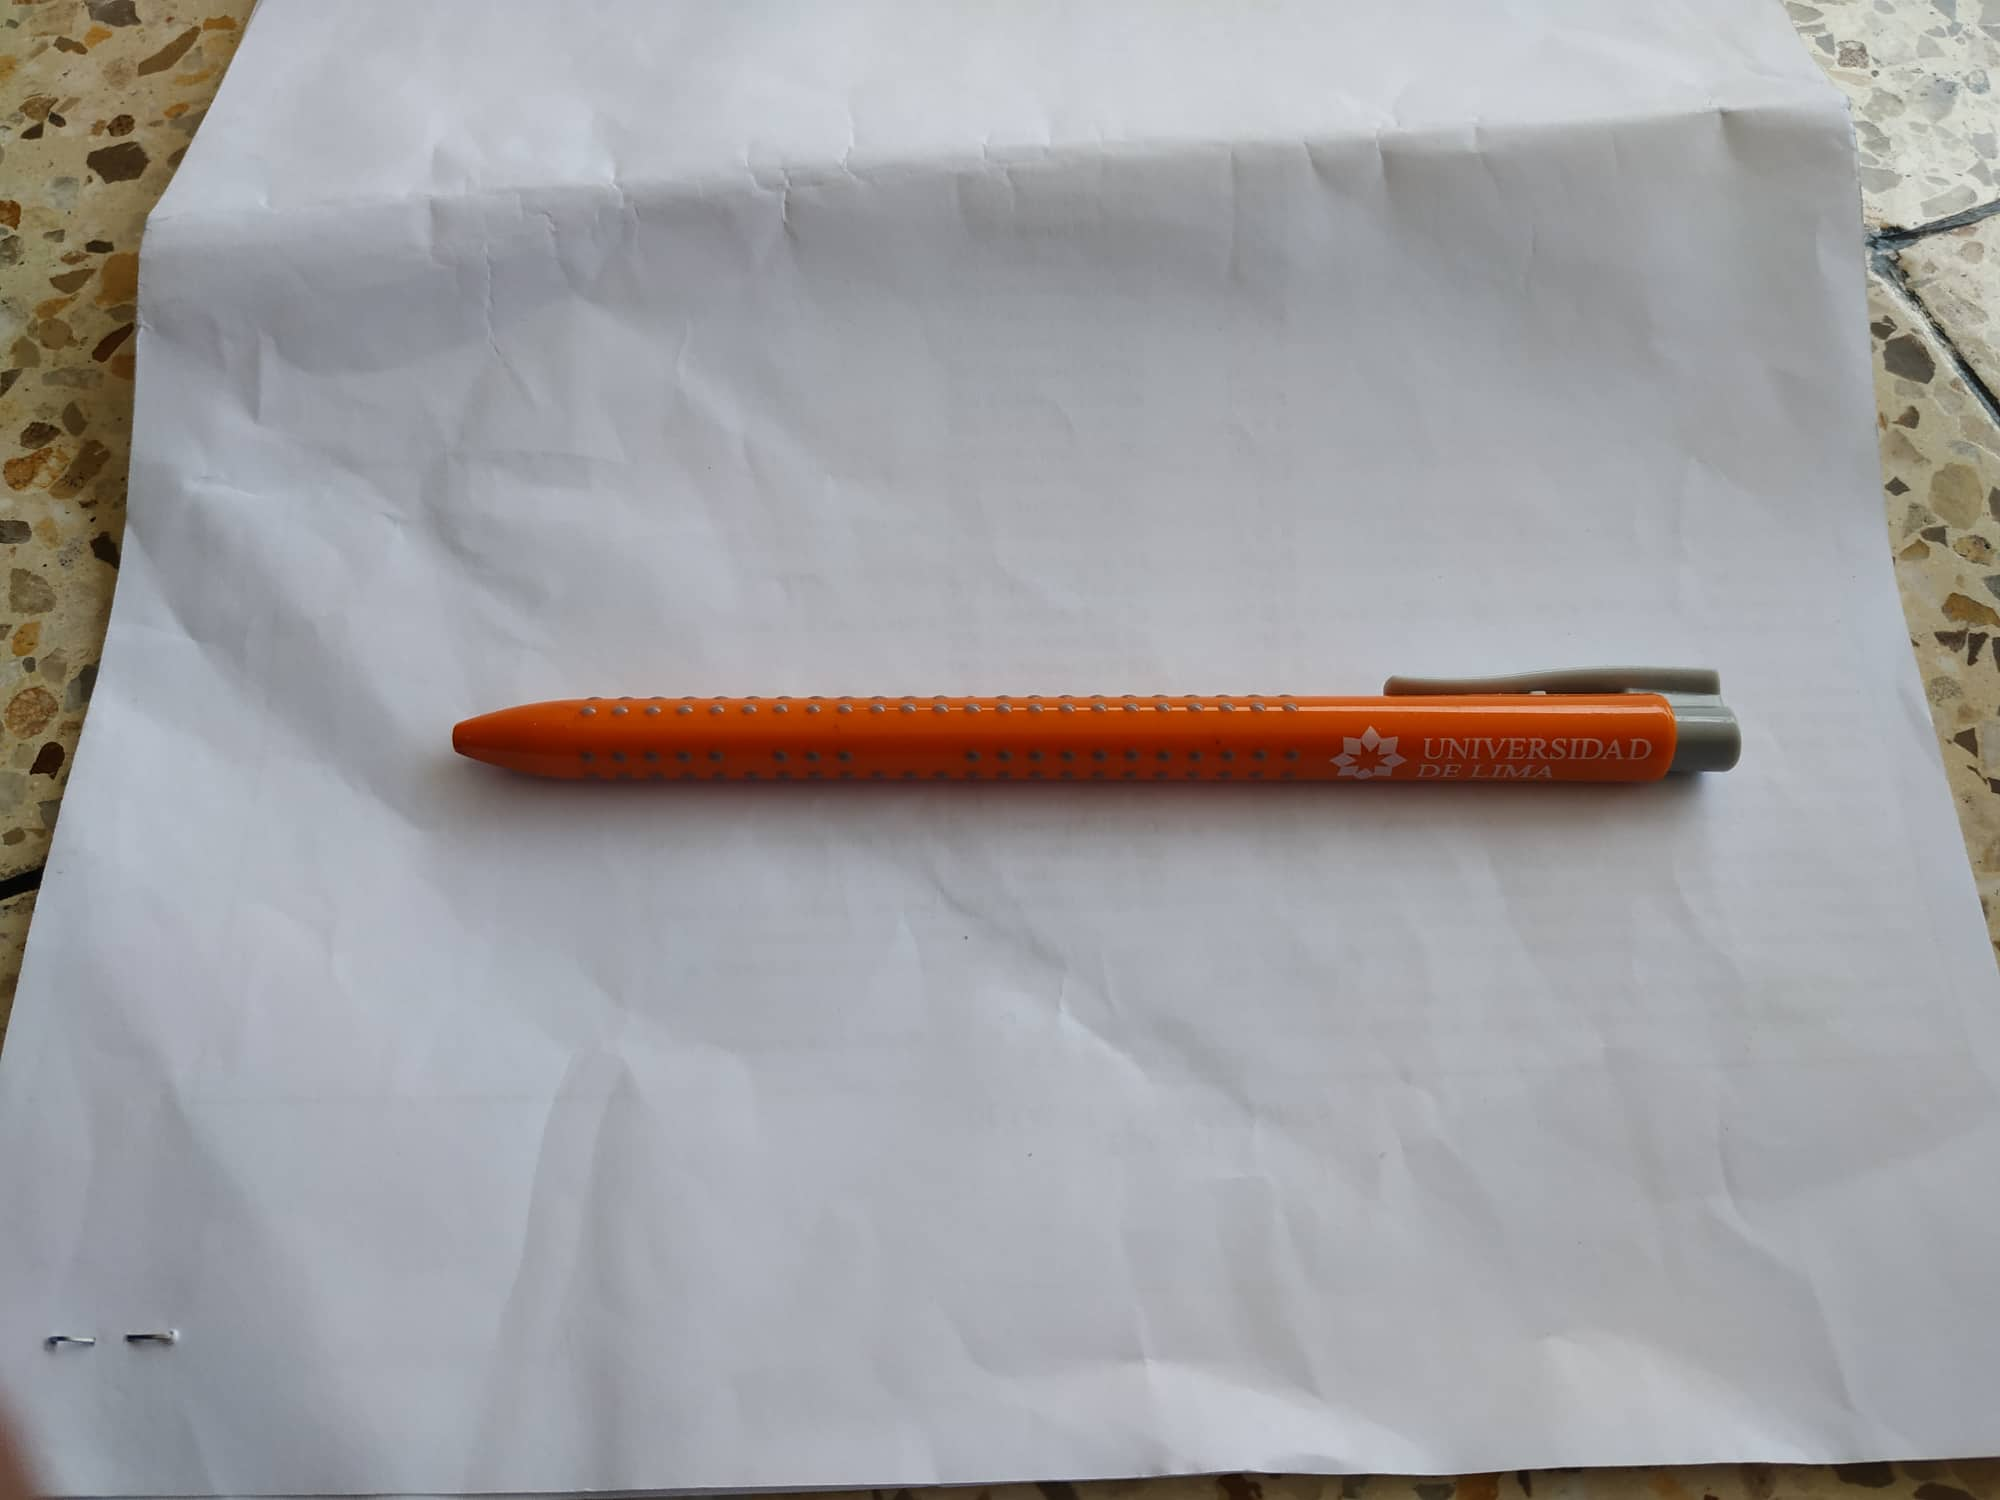qillqana: (416, 629, 1769, 807)
